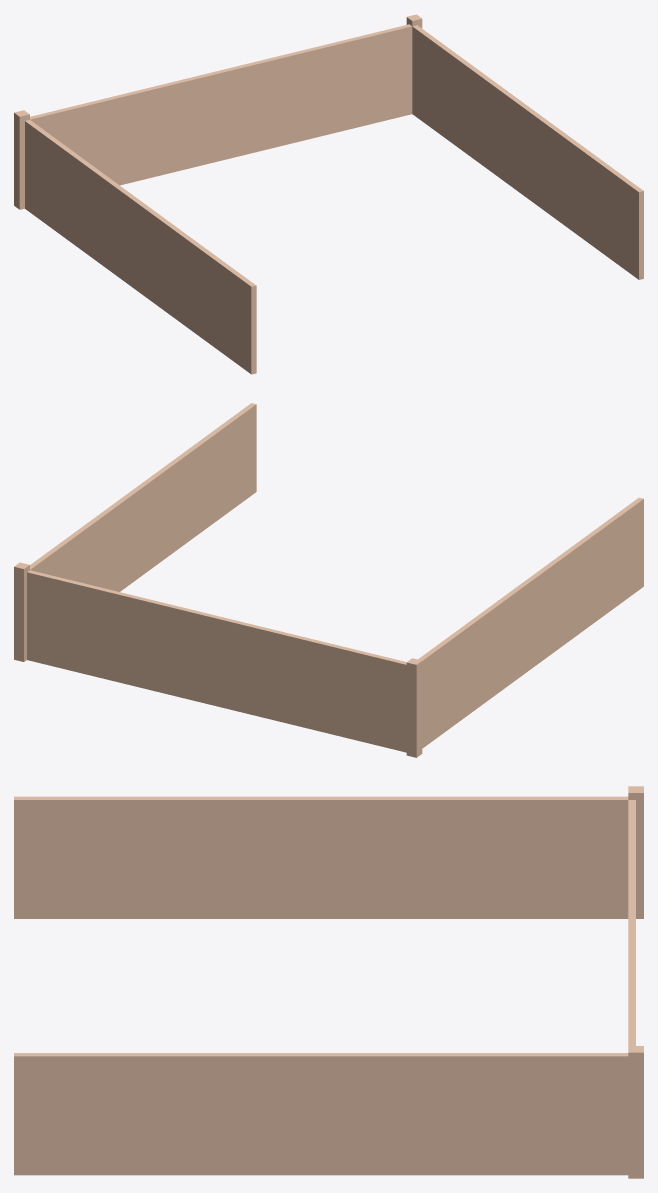
The model's file is fence_large.glb.
3 renders of one model, top to bottom at view 1: azimuth 30°, elevation 25°; view 2: azimuth 150°, elevation 25°; view 3: azimuth 270°, elevation 25°, orthographic. The views are drawn at different scales.
Visible parts, largest first — view 1: fence_large; view 2: fence_large; view 3: fence_large.
Boxes of the visible parts, left/top/right/bottom form: fence_large: left=14, top=14, right=643, bottom=374; fence_large: left=14, top=403, right=643, bottom=757; fence_large: left=14, top=786, right=643, bottom=1178.
Size of the model in its own units: 1.2 by 0.265 by 1.2.
